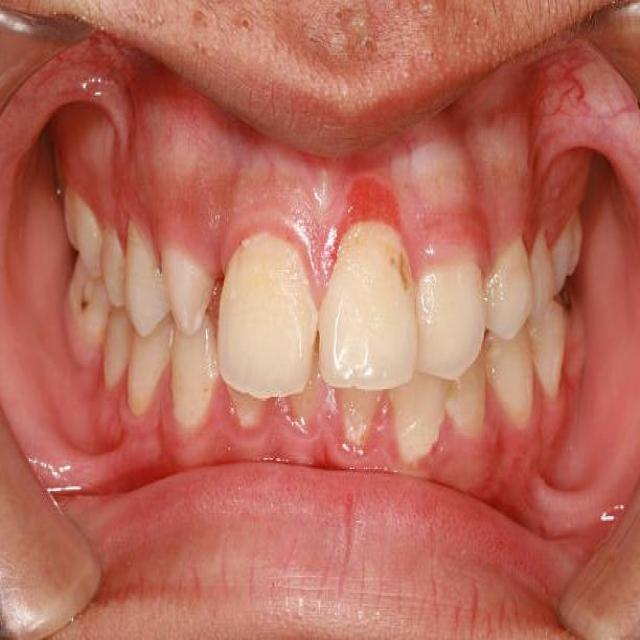Gingivitis: (345, 168, 403, 224)
